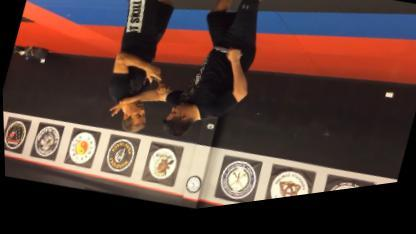knife: (210, 45, 245, 69)
